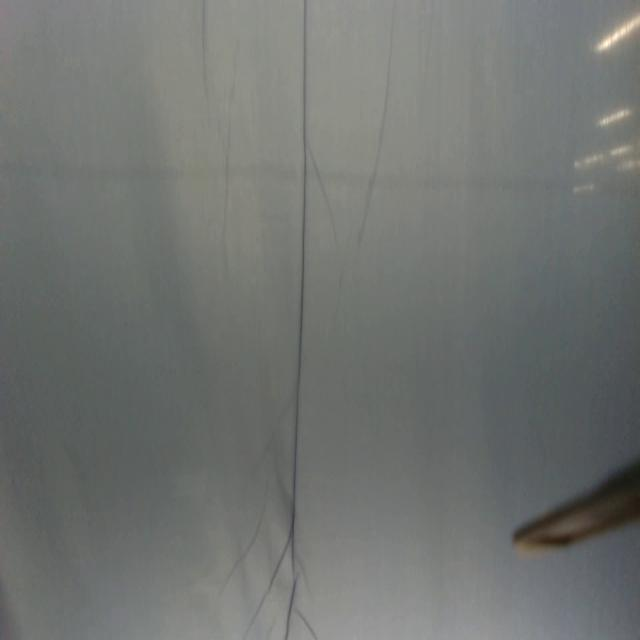crease: (286, 0, 310, 639), (358, 0, 397, 248), (214, 487, 269, 601), (243, 534, 291, 638), (220, 81, 238, 249), (200, 0, 213, 115)
